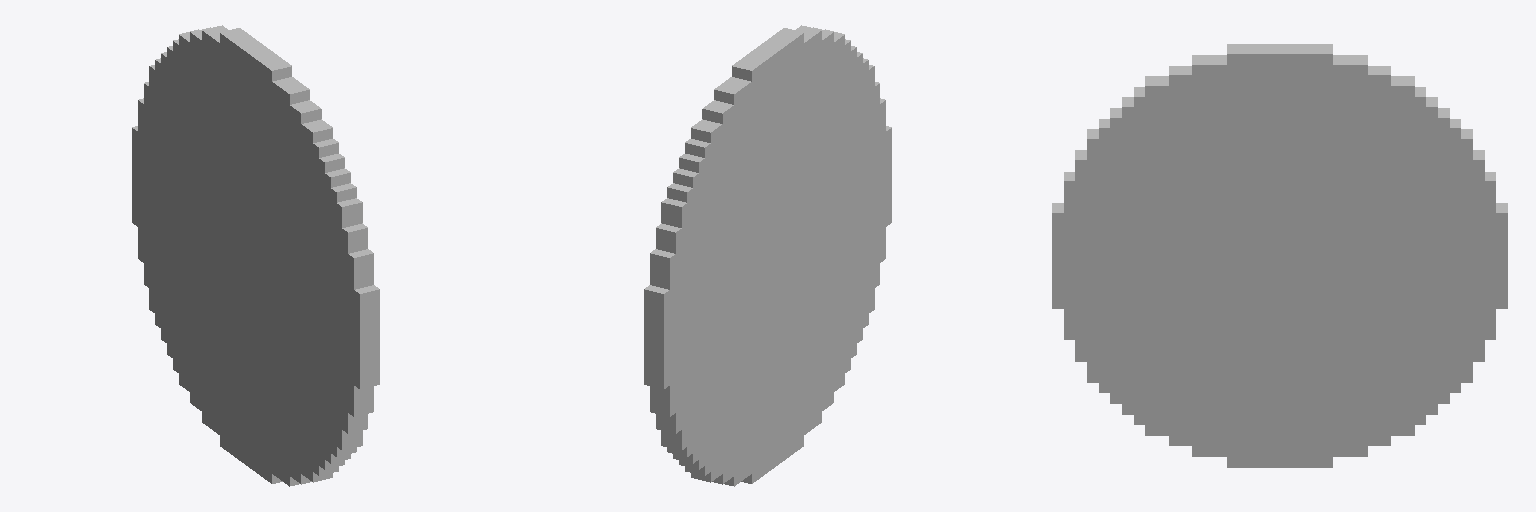
File: Archery Target.obj
3 renders of one model, left to right at view 1: azimuth 30°, elevation 25°; view 2: azimuth 150°, elevation 25°; view 3: azimuth 270°, elevation 25°, orthographic.
Visible parts, largest first — view 1: object 1; view 2: object 1; view 3: object 1.
Boxes of the visible parts, x1,y1,x2,y2 form: object 1: [132, 25, 379, 486]; object 1: [644, 25, 891, 486]; object 1: [1052, 44, 1507, 467].
Bounding box in the file's own units: 0.2 × 3.9 × 3.9.